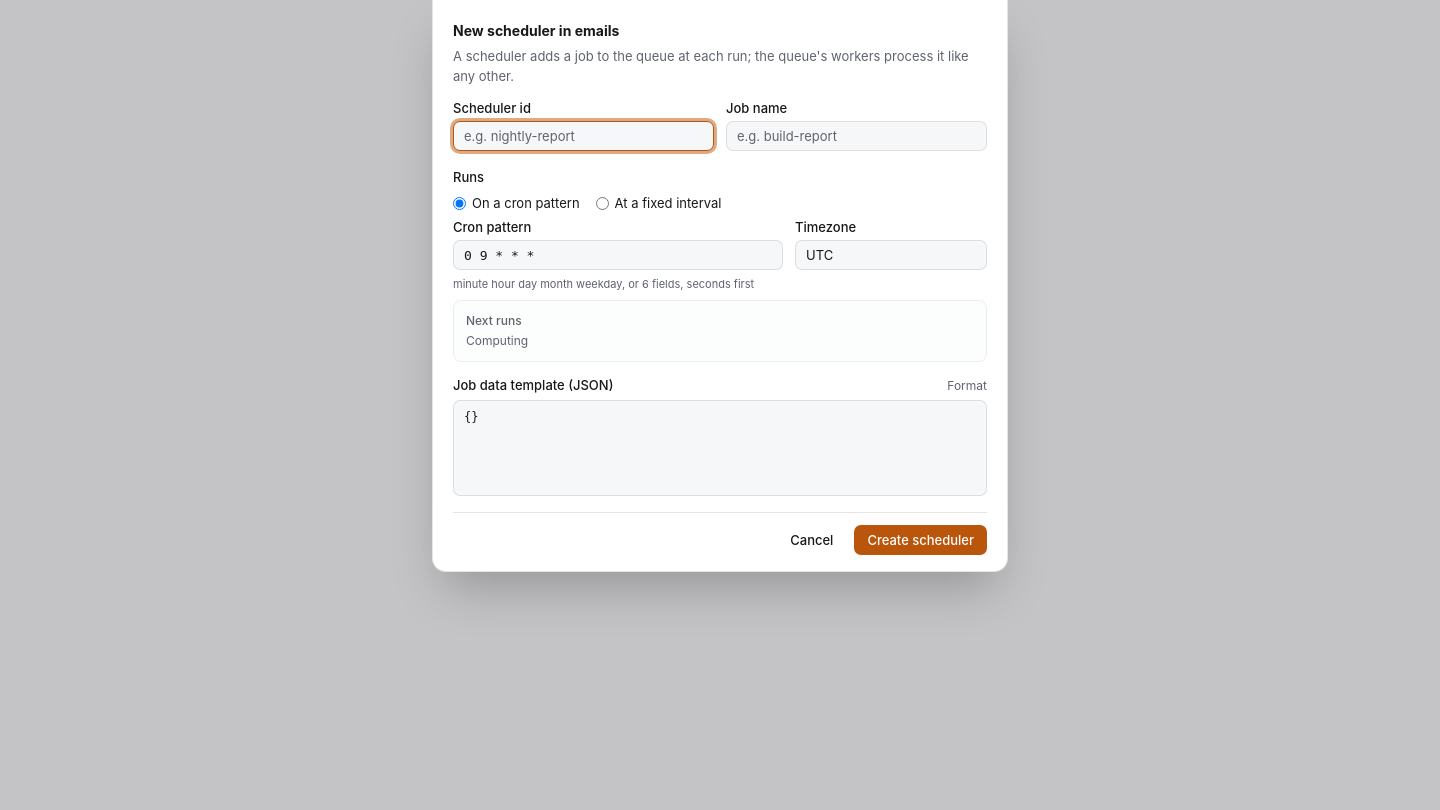
Test: SchedulerSheet: create › does not send an incomplete form; shows a backend refusal in place
Click the button with test id "scheduler-save": [921, 540] box [854, 525, 987, 555]
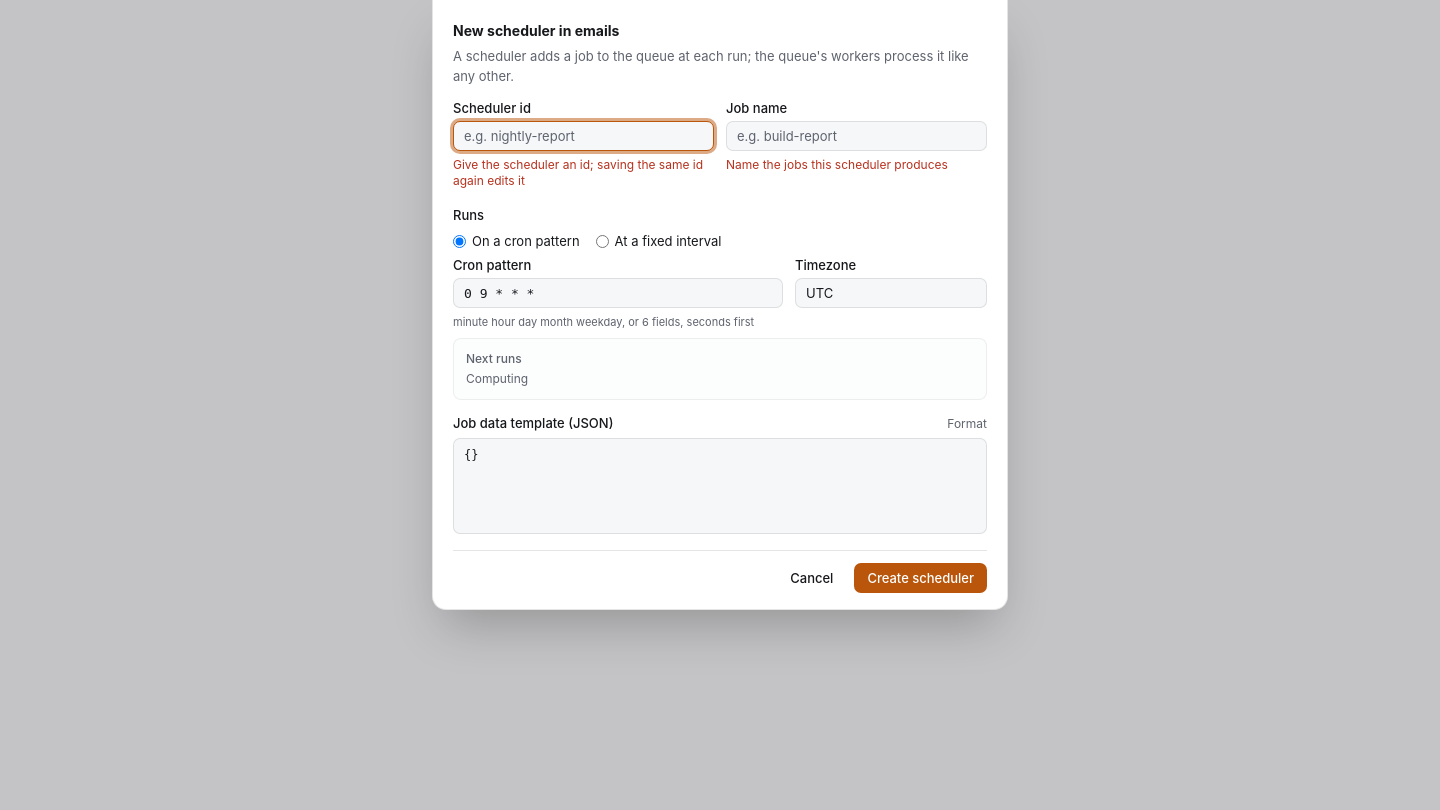
Now the text "Give the scheduler an id; saving the same id again edits it" is shown, box [453, 157, 714, 189]
Now the text "Name the jobs this scheduler produces" is shown, box [726, 157, 987, 173]
In the field labelled "Scheduler id": [584, 136] box [453, 121, 714, 151], type "nightly"
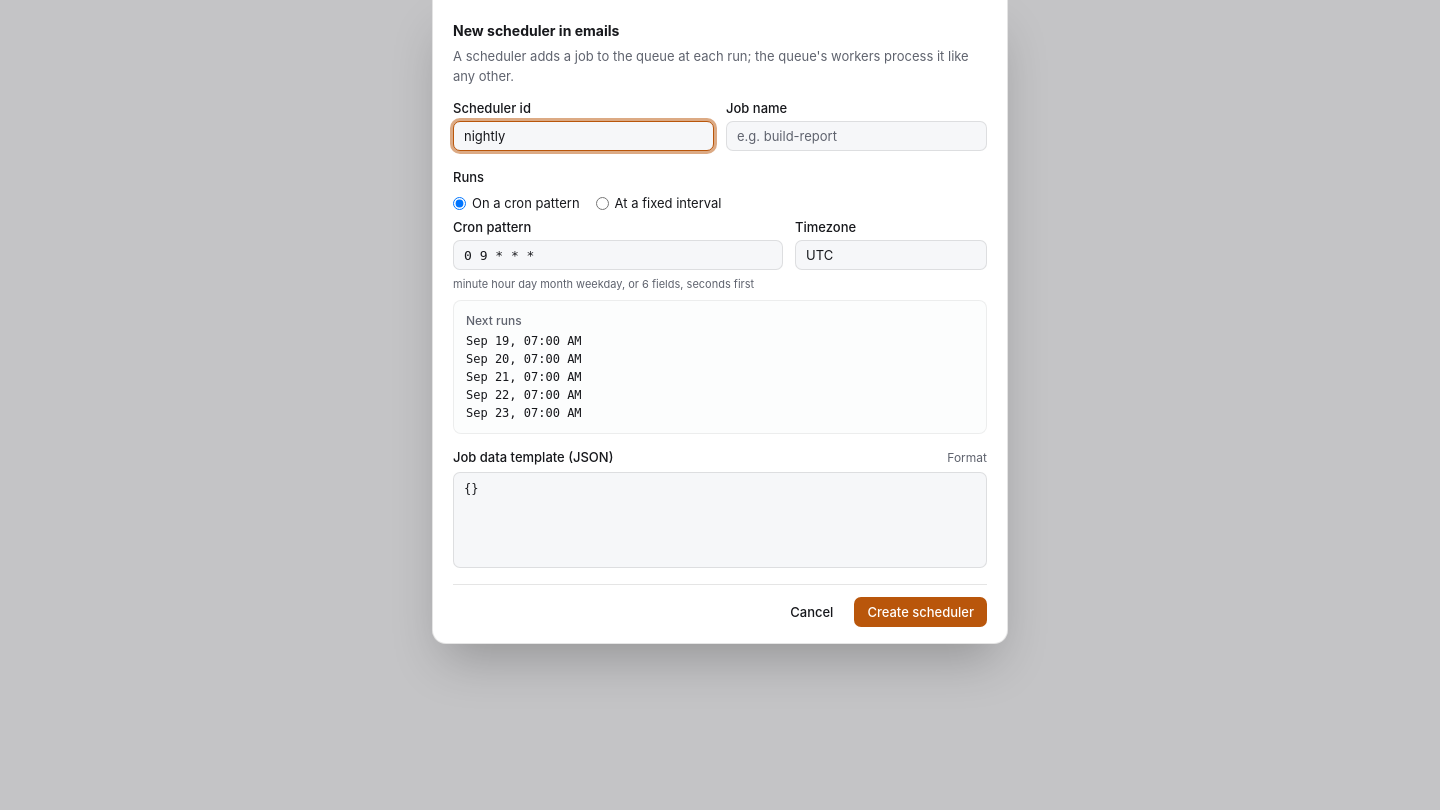
In the field labelled "Job name": [856, 136] box [726, 121, 987, 151], type "build-report"
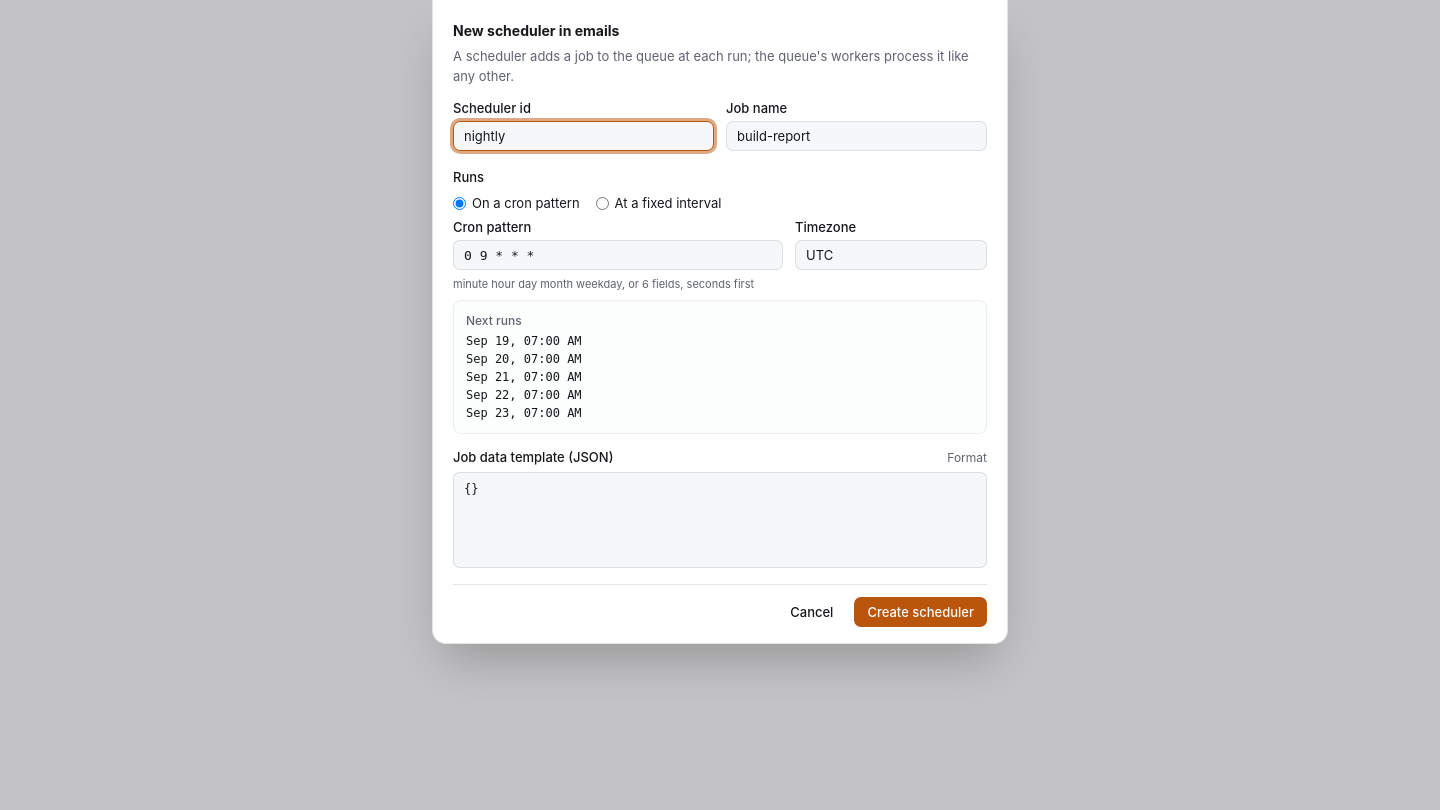
Click the button with test id "scheduler-save": [921, 612] box [854, 597, 987, 627]
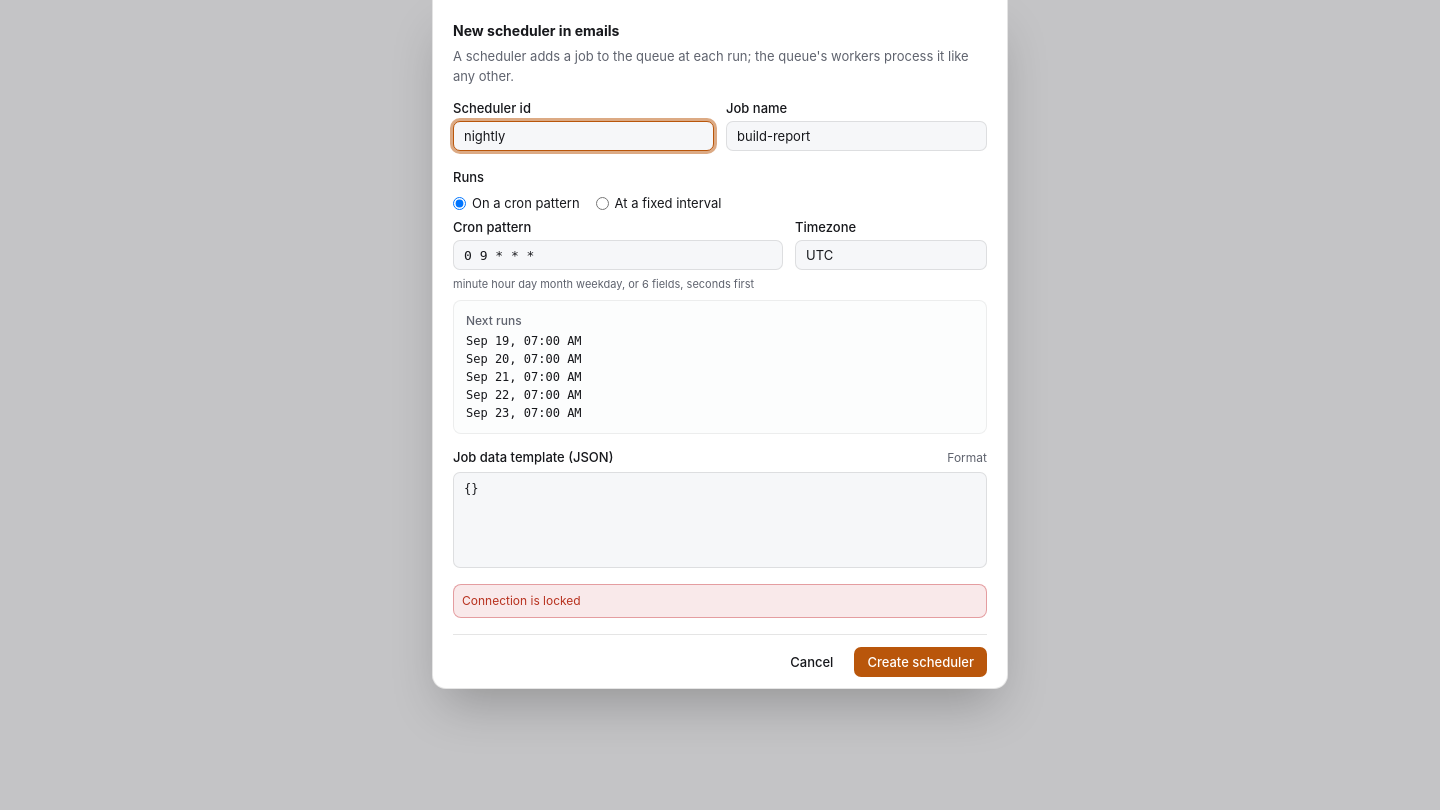
Now the message reads "Connection is locked", box [462, 593, 581, 608]
